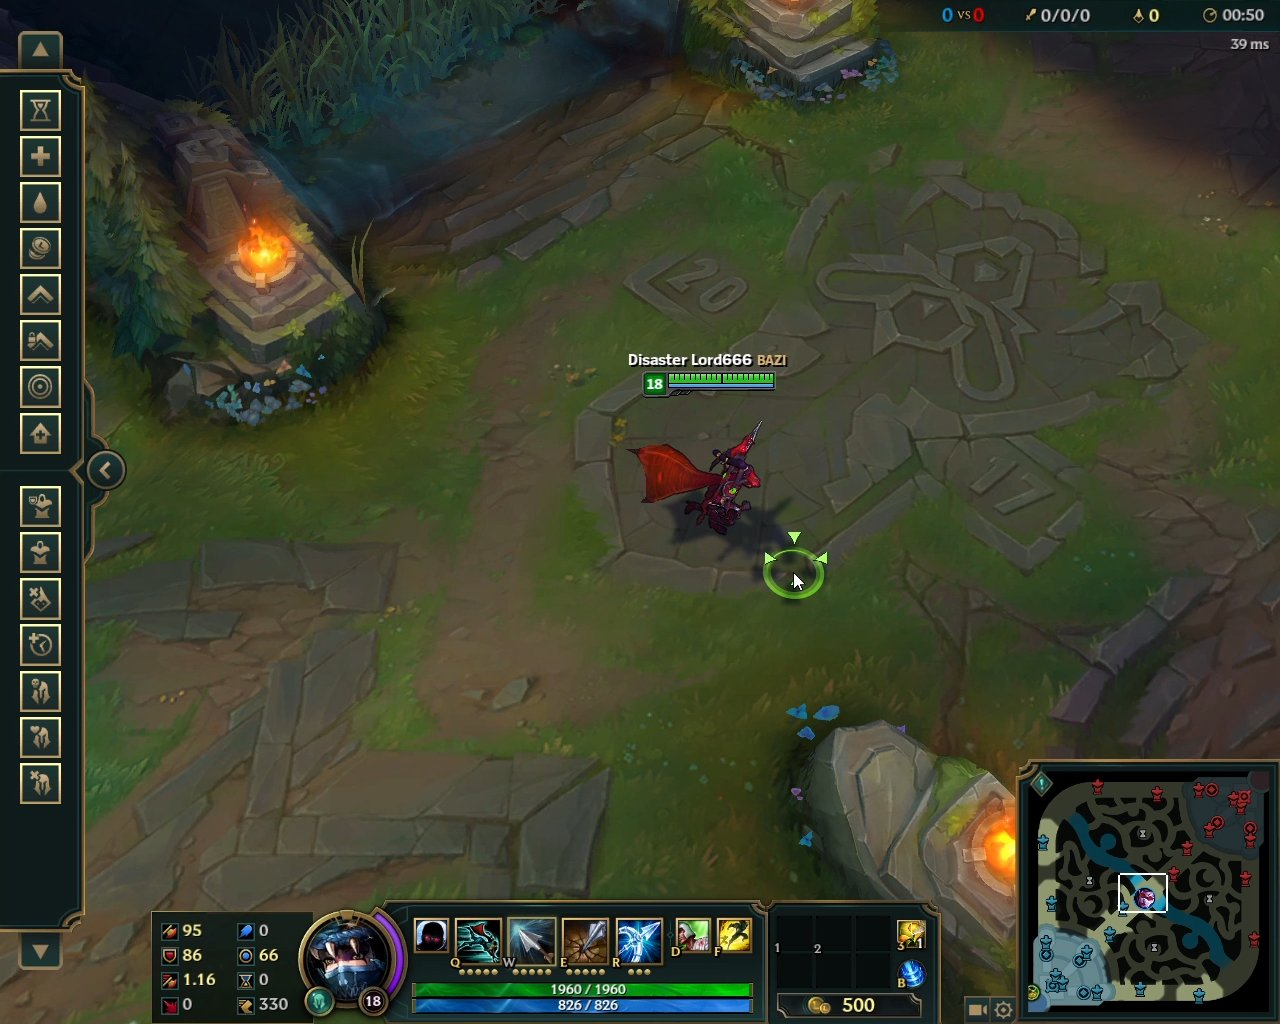Vayne: (616, 414, 768, 546)
